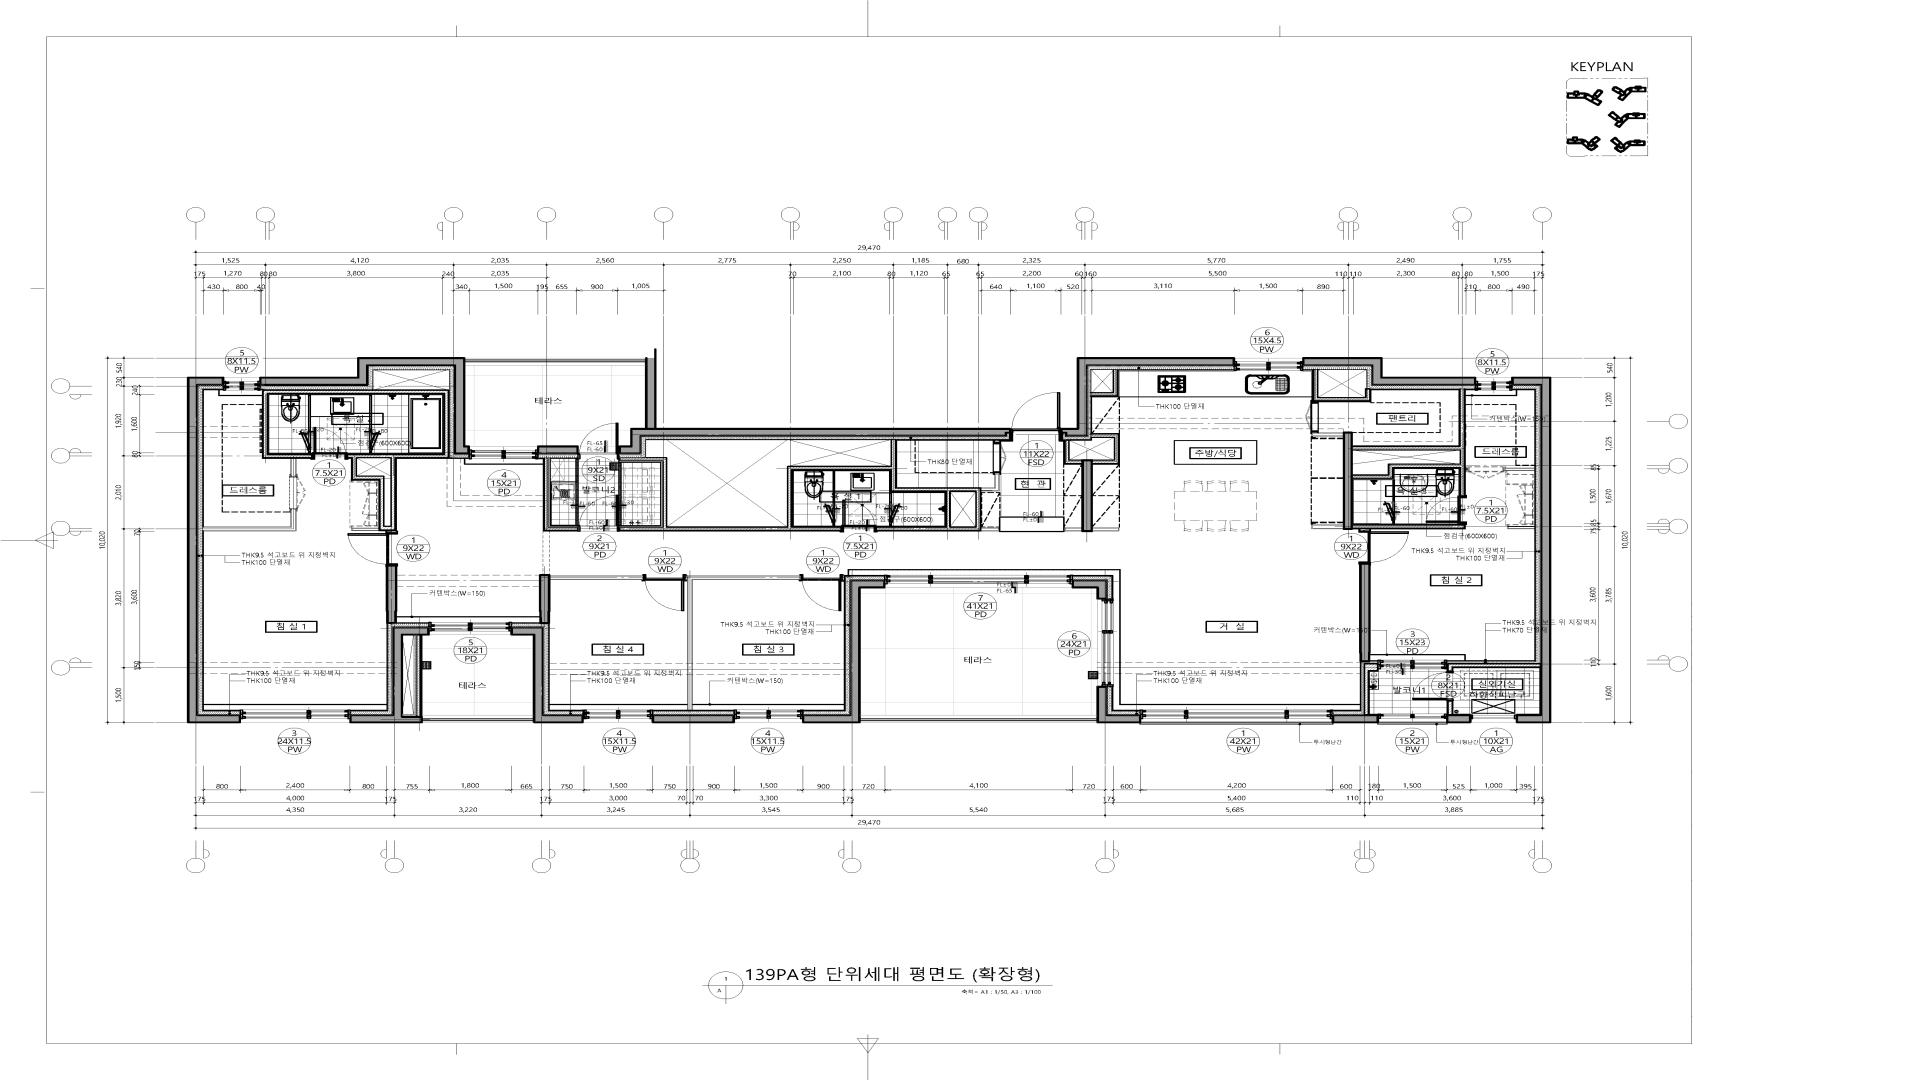door: (1010, 392, 1060, 442), (347, 531, 398, 567), (1358, 530, 1410, 564), (644, 574, 687, 612), (800, 574, 844, 612), (578, 495, 620, 531), (579, 422, 618, 460), (1412, 671, 1453, 702), (311, 427, 348, 460), (841, 500, 877, 533), (1425, 496, 1468, 524), (290, 477, 306, 509), (1466, 467, 1505, 479), (1305, 402, 1319, 433)
wall: (618, 357, 1010, 455), (618, 440, 1000, 531), (262, 389, 450, 531), (260, 357, 469, 455), (187, 377, 241, 723), (687, 575, 800, 709), (1060, 357, 1234, 436), (1511, 377, 1551, 723), (1353, 389, 1466, 496), (802, 579, 885, 723), (349, 626, 430, 723), (510, 626, 584, 724), (1303, 357, 1476, 386), (543, 458, 578, 531), (203, 509, 297, 531), (1312, 369, 1371, 402), (861, 715, 1096, 723), (1096, 686, 1141, 724), (465, 357, 645, 365), (1342, 431, 1353, 530), (1360, 564, 1370, 662), (1091, 433, 1120, 464), (1081, 459, 1093, 533), (423, 715, 533, 723), (1091, 369, 1118, 397), (1072, 579, 1108, 600), (1364, 663, 1378, 713), (1448, 663, 1539, 671), (385, 567, 397, 624), (651, 715, 735, 723), (1353, 524, 1466, 529), (415, 636, 422, 716), (539, 574, 550, 624), (550, 575, 644, 580), (1063, 440, 1081, 464), (537, 446, 579, 455), (1332, 715, 1379, 723), (1447, 713, 1472, 724), (1312, 433, 1342, 436), (1312, 525, 1342, 529), (1093, 527, 1120, 531), (1505, 468, 1535, 471), (1447, 702, 1453, 713), (1507, 526, 1535, 529), (1064, 527, 1081, 531)
window: (1141, 709, 1332, 724), (886, 575, 1072, 587), (1097, 600, 1114, 686), (241, 709, 349, 723), (430, 621, 510, 634), (469, 447, 537, 460), (584, 709, 651, 723), (735, 709, 802, 723), (1236, 357, 1303, 371), (1378, 659, 1447, 670), (1379, 713, 1447, 724), (224, 377, 260, 390), (1477, 377, 1511, 390), (1472, 715, 1516, 723)
